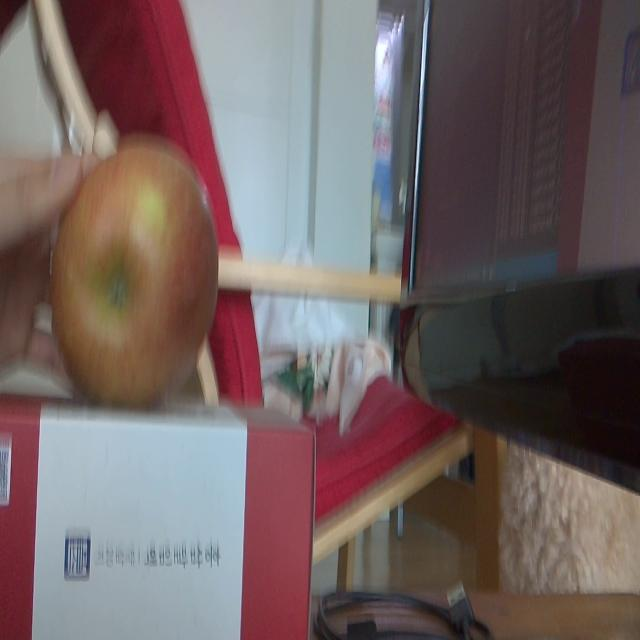apple: (50, 143, 216, 406)
